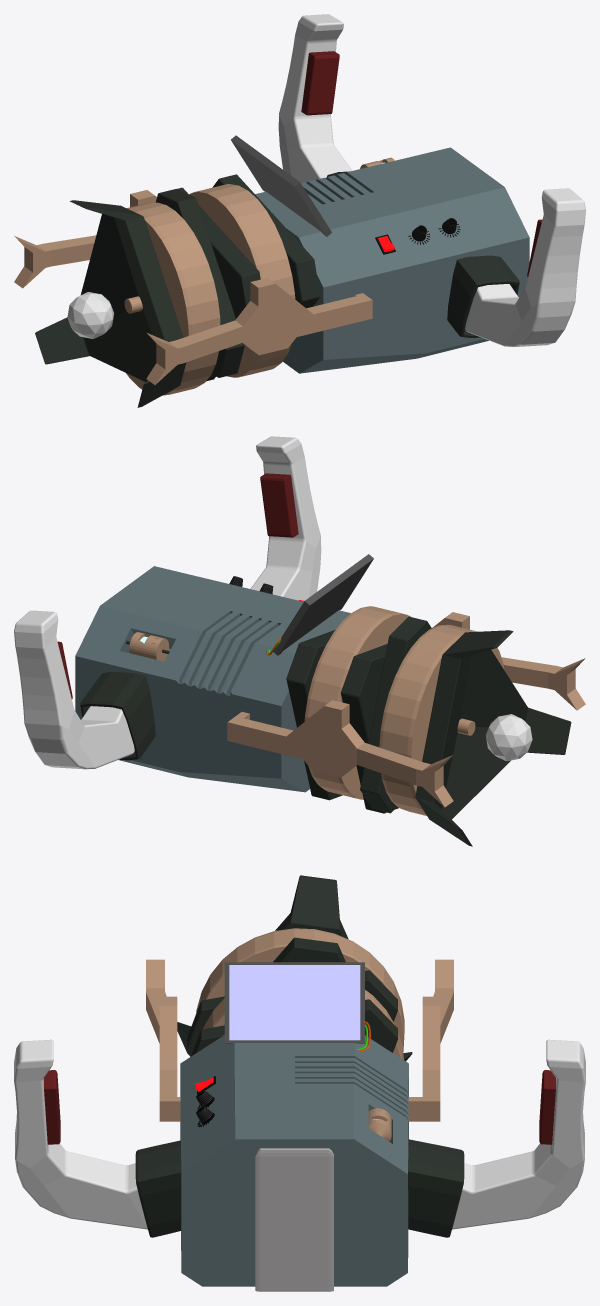
File: GGun 1.fbx
The picture shows the model from 3 angles, top to bottom: view 1: azimuth 30°, elevation 25°; view 2: azimuth 150°, elevation 25°; view 3: azimuth 270°, elevation 25°; orthographic projection. The views are drawn at different scales.
Parts seen in each view (by area): view 1: main, Circle.001, Cube.009, rightArm.001, Cylinder.006, leftArm, Cylinder.004, Circle, Cube.002, Cube.003, buttonRight, Icosphere; view 2: main, Circle.001, Cube.009, leftArm, Cylinder.006, rightArm.001, Cylinder.004, Circle, Cube.001, Cube.003, buttonLeft, Icosphere (+1 smaller); view 3: main, Cube.005, leftArm, rightArm.001, Cube.007, Cube.009, Cube.001, Circle.001, Cylinder.006, Cube.002, Circle, Cube.003 (+4 smaller).
Part boxes in pixels (left/top/right/bottom): main: left=255, top=147, right=529, bottom=373; Circle.001: left=35, top=189, right=244, bottom=407; Cube.009: left=14, top=190, right=372, bottom=384; rightArm.001: left=465, top=188, right=585, bottom=346; Cylinder.006: left=126, top=202, right=220, bottom=395; leftArm: left=278, top=14, right=352, bottom=182; Cylinder.004: left=189, top=184, right=295, bottom=377; Circle: left=177, top=174, right=319, bottom=381; Cube.002: left=447, top=255, right=519, bottom=337; Cube.003: left=231, top=135, right=331, bottom=236; buttonRight: left=301, top=51, right=339, bottom=115; Icosphere: left=67, top=292, right=113, bottom=338; main: left=75, top=566, right=350, bottom=792; Circle.001: left=360, top=616, right=571, bottom=846; Cube.009: left=227, top=612, right=585, bottom=807; leftArm: left=14, top=610, right=134, bottom=769; Cylinder.006: left=379, top=624, right=504, bottom=815; rightArm.001: left=250, top=436, right=321, bottom=600; Cylinder.004: left=304, top=606, right=410, bottom=799; Circle: left=286, top=628, right=432, bottom=813; Cube.001: left=80, top=671, right=155, bottom=760; Cube.003: left=273, top=554, right=373, bottom=655; buttonLeft: left=260, top=473, right=298, bottom=537; Icosphere: left=485, top=714, right=532, bottom=761; main: left=180, top=1035, right=408, bottom=1286; Cube.005: left=255, top=1148, right=333, bottom=1291; leftArm: left=452, top=1039, right=585, bottom=1229; rightArm.001: left=14, top=1039, right=147, bottom=1229; Cube.007: left=229, top=965, right=360, bottom=1040; Cube.009: left=146, top=959, right=453, bottom=1121; Cube.001: left=408, top=1139, right=464, bottom=1237; Circle.001: left=177, top=875, right=412, bottom=1061; Cylinder.006: left=196, top=928, right=404, bottom=1051; Cube.002: left=135, top=1140, right=181, bottom=1237; Circle: left=187, top=970, right=397, bottom=1056; Cube.003: left=224, top=962, right=364, bottom=1043.
Bounding box in the file's own units: 1972 × 1014 × 2187.
Materials: 19 (1 with a texture image).
